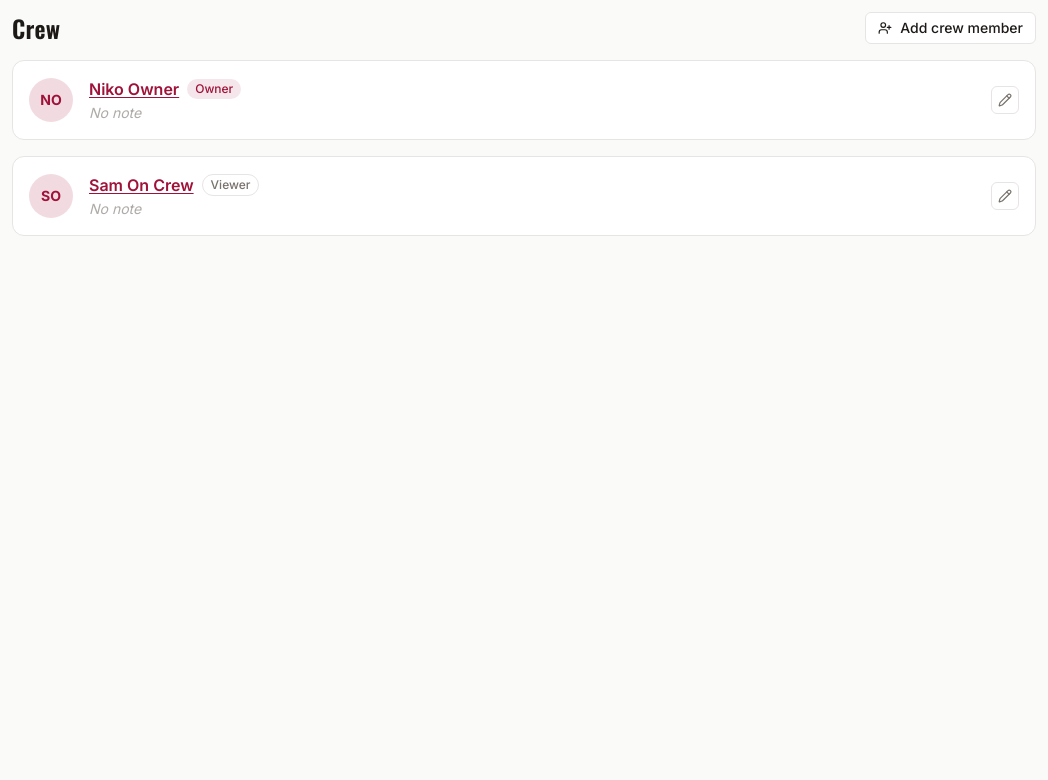
Test: CrewPage add-from-following (#198 follow-up) › an editor gets the manual form and never loads the follow list
Click the button "Add crew member": (951, 28) [865,12,1036,44]
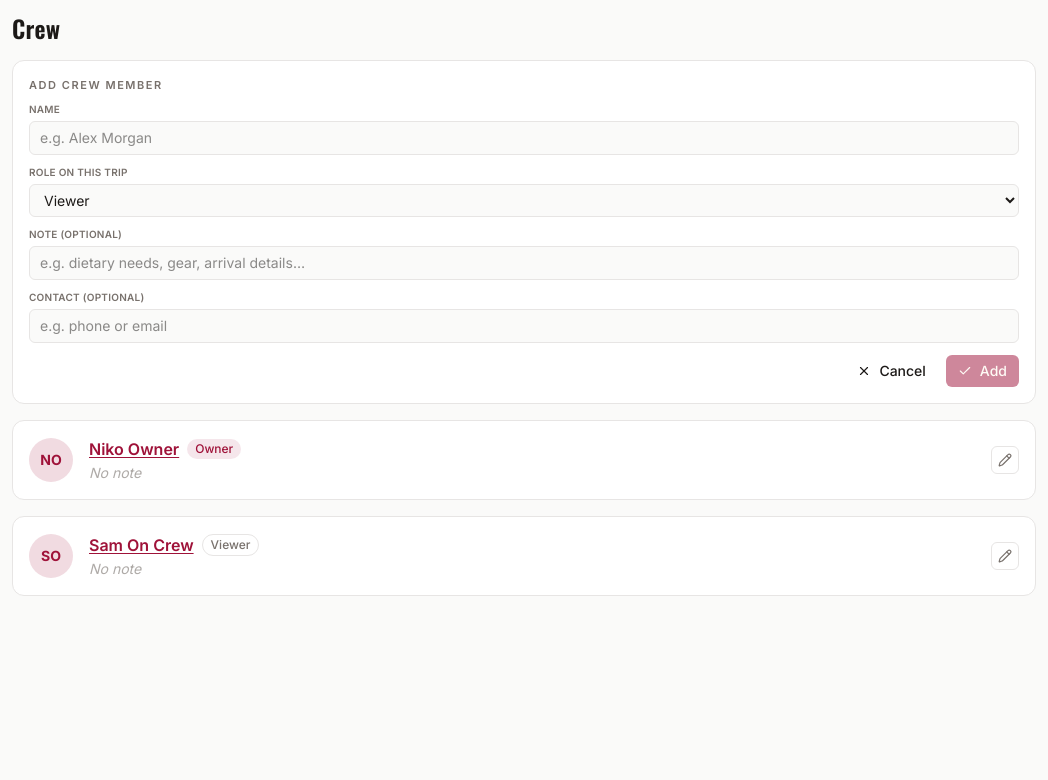
Expected: the field with id "crew-add-contact" is shown, [29,308,1019,342]
